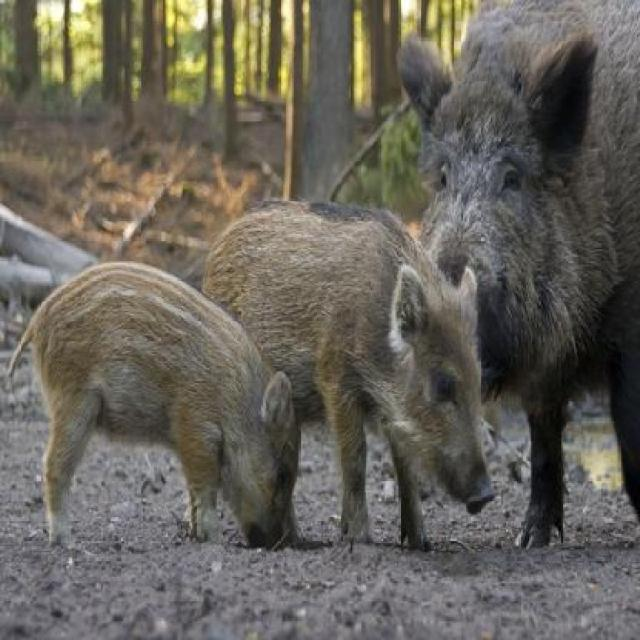wildboar: (395, 0, 640, 542), (188, 186, 502, 548), (9, 257, 308, 549)
